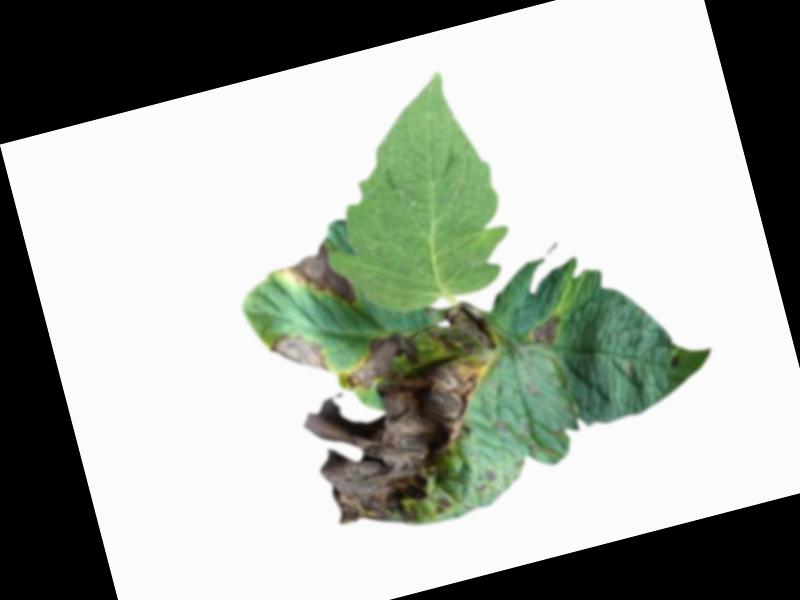Early_blight: (291, 347, 523, 545), (335, 325, 424, 393), (281, 240, 357, 318), (420, 297, 498, 364), (265, 327, 327, 382), (528, 314, 563, 347), (668, 352, 680, 368)
healthy: (287, 63, 522, 326)
